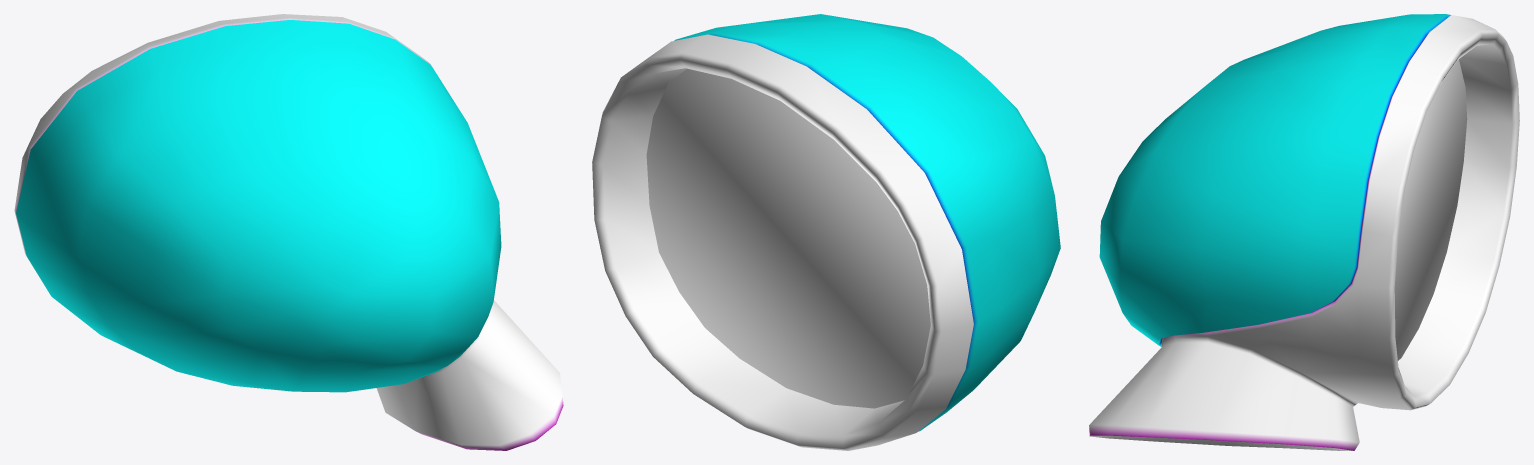
Rendered from Car_Mini_CountrymanJCW_2017_MirrorR_SetA.fbx.
The picture shows the model from 3 angles, left to right: view 1: azimuth 30°, elevation 25°; view 2: azimuth 150°, elevation 25°; view 3: azimuth 270°, elevation 25°; orthographic projection. The views are drawn at different scales.
Parts seen in each view (by area): view 1: MirrorR 6; view 2: MirrorR 6; view 3: MirrorR 6.
Part boxes in pixels (x1,y1,x2,y2): MirrorR 6: (14,14,563,450); MirrorR 6: (592,14,1060,450); MirrorR 6: (1089,14,1519,450).
Bounding box in the file's own units: 0.2024 × 0.1777 × 0.1887.
